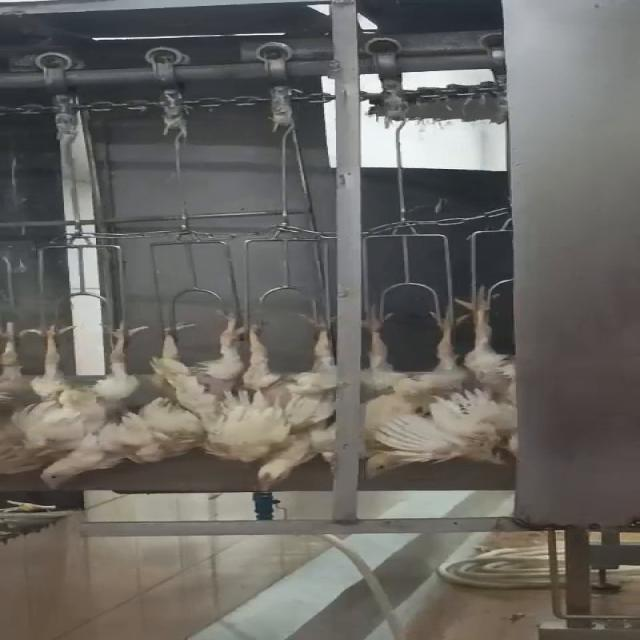chicken: (28, 313, 144, 492), (359, 296, 469, 484), (244, 297, 334, 499), (130, 304, 240, 468), (467, 286, 522, 476), (0, 316, 34, 484)
